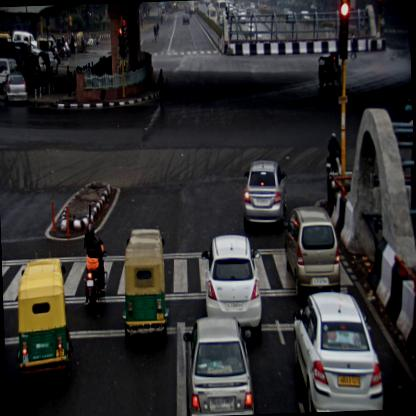car: (292, 289, 385, 412), (183, 316, 256, 416), (201, 233, 264, 344), (283, 204, 342, 298), (241, 160, 287, 230), (4, 73, 30, 107), (0, 58, 22, 95)
motorcycle: (80, 221, 107, 314), (324, 130, 342, 176)
